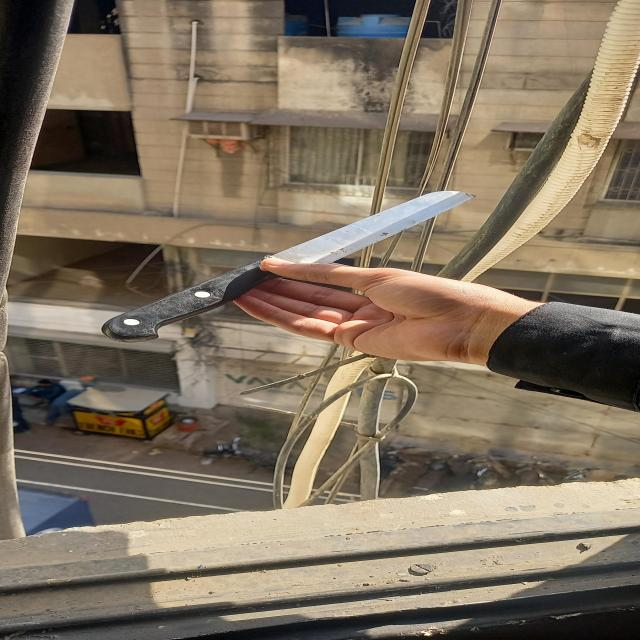weapon: (104, 192, 473, 342)
